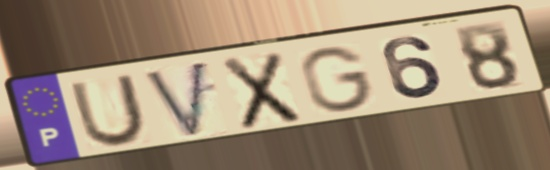6: (379, 35, 446, 101)
8: (454, 21, 523, 92)
G: (297, 44, 377, 115)
U: (66, 71, 150, 150)
V: (140, 57, 212, 142)
X: (218, 49, 305, 133)
